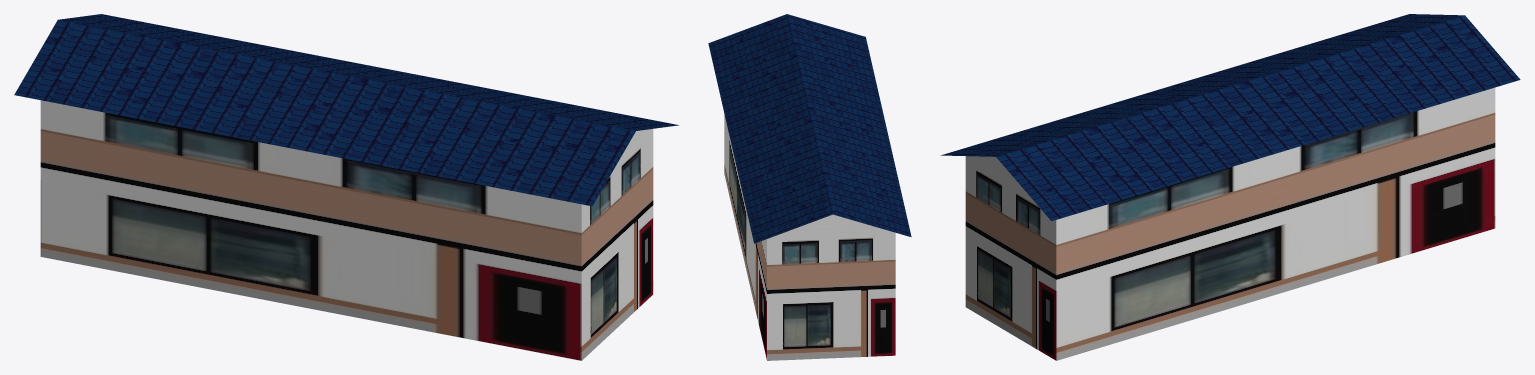
The picture shows the model from 3 angles, left to right: view 1: azimuth 30°, elevation 25°; view 2: azimuth 150°, elevation 25°; view 3: azimuth 270°, elevation 25°; orthographic projection. The views are drawn at different scales.
Visible parts, largest first — view 1: CityEngineMaterial_5_m, CityEngineMaterial_6_m; view 2: CityEngineMaterial_6_m, CityEngineMaterial_5_m, CityEngineMaterial_3_m; view 3: CityEngineMaterial_5_m, CityEngineMaterial_6_m.
Part boxes in pixels (bbox=[...]): CityEngineMaterial_5_m: bbox=[40, 100, 653, 360]; CityEngineMaterial_6_m: bbox=[14, 14, 678, 206]; CityEngineMaterial_6_m: bbox=[708, 14, 911, 243]; CityEngineMaterial_5_m: bbox=[724, 114, 895, 360]; CityEngineMaterial_3_m: bbox=[789, 214, 876, 230]; CityEngineMaterial_5_m: bbox=[965, 87, 1495, 360]; CityEngineMaterial_6_m: bbox=[940, 14, 1520, 221].
Bounding box in the file's own units: 26.35 × 10.77 × 31.16.
